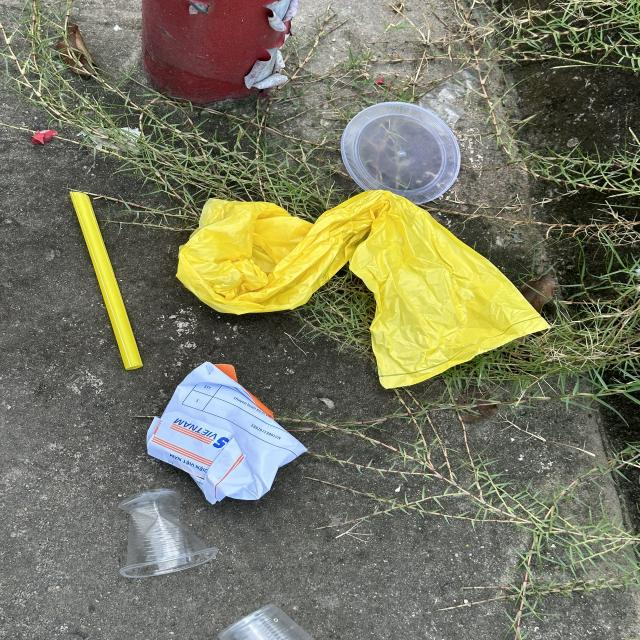bag: (173, 189, 551, 390)
drinking straw: (69, 190, 143, 371)
lid: (341, 102, 461, 205)
paper: (147, 360, 309, 505)
plastic glass: (118, 487, 218, 579), (214, 602, 316, 640)
